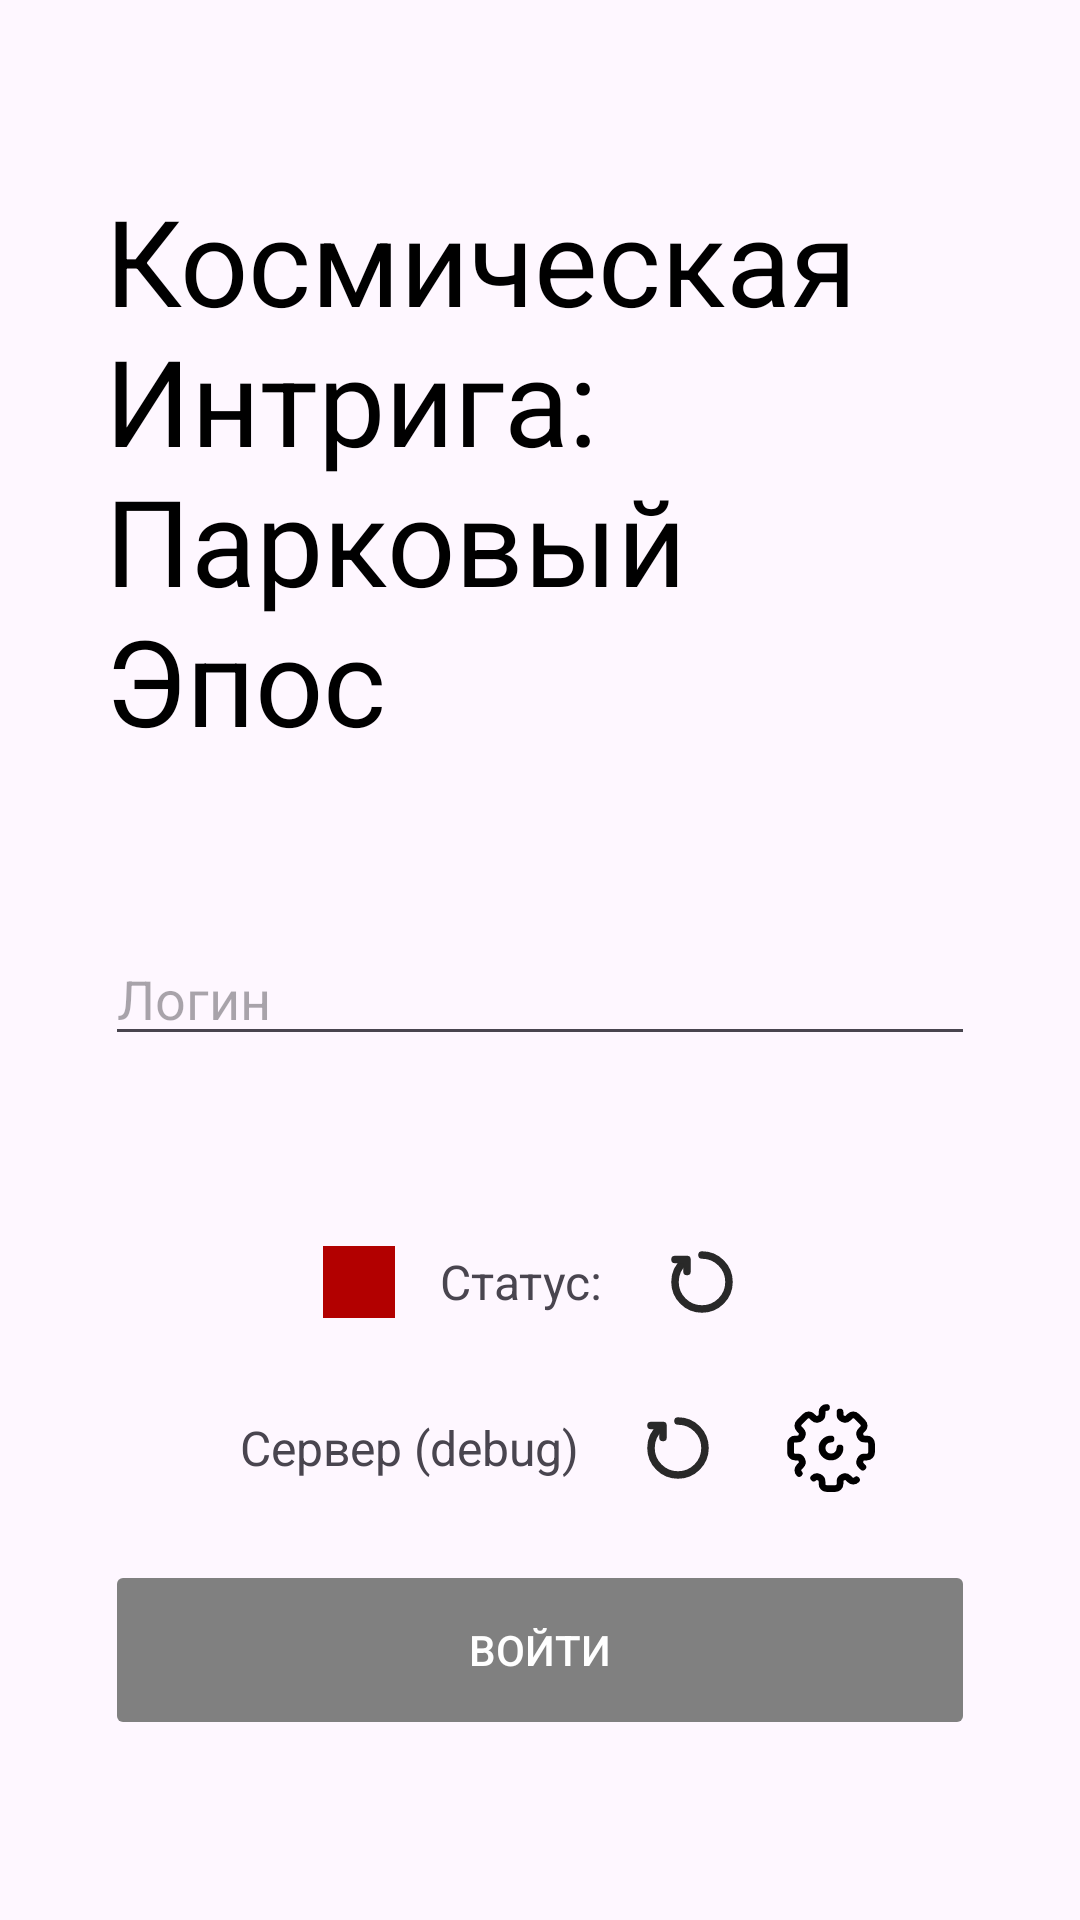

Icons on this 1080 × 1920 Android screen, each with its box as (x1, y1, x2, y2):
restart: (671, 1251, 733, 1313), (647, 1417, 709, 1479)
settings: (787, 1404, 875, 1492)
